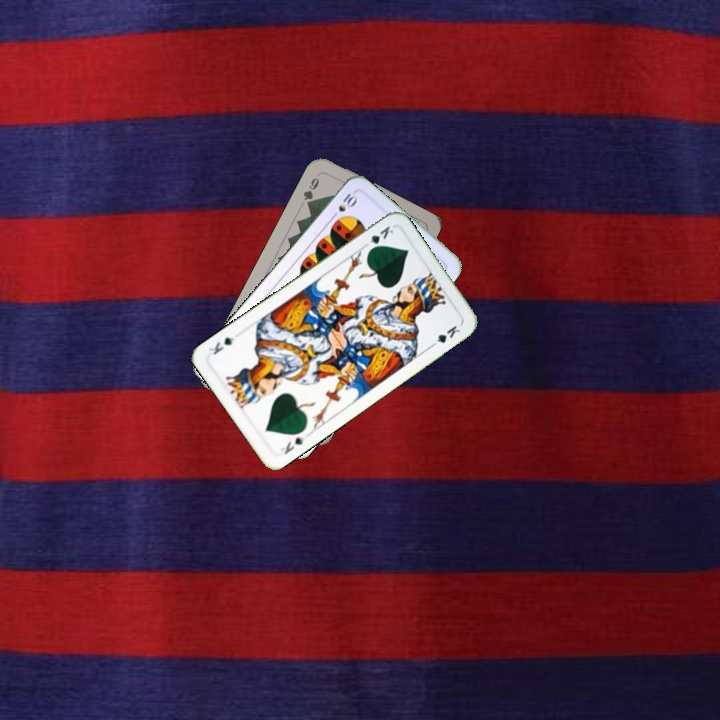G9: (299, 170, 322, 210)
GK: (359, 222, 396, 254), (276, 430, 311, 457)
S10: (327, 189, 360, 222)
